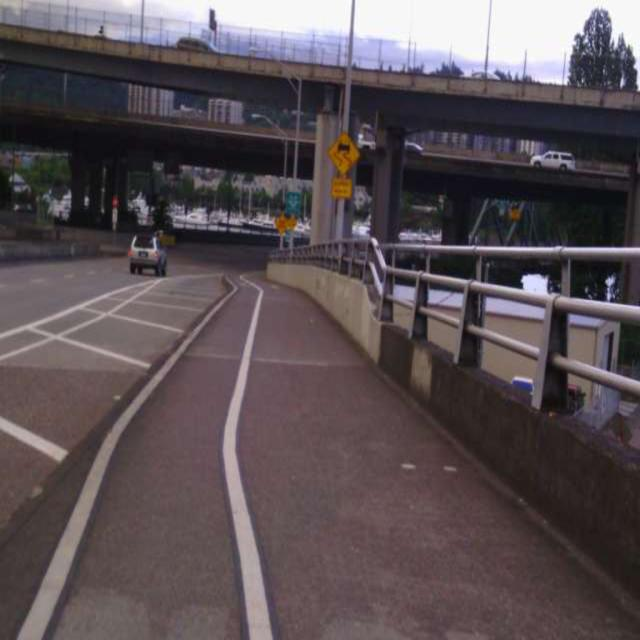car: (127, 233, 168, 272), (530, 149, 575, 169)
